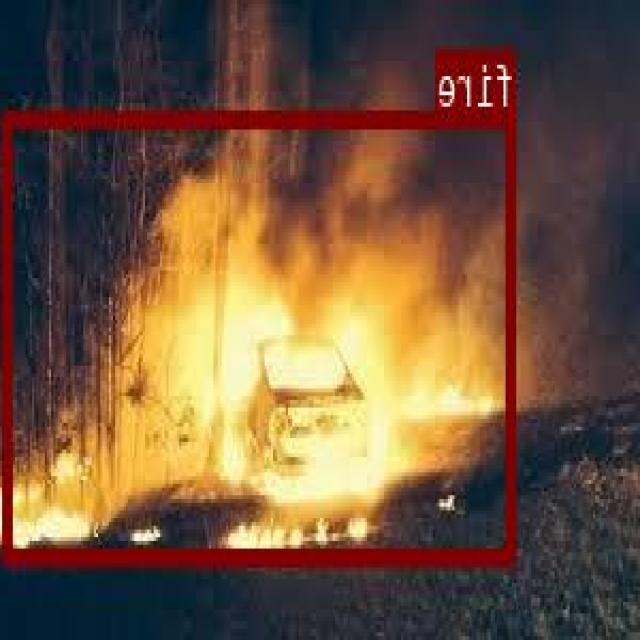fire: (6, 108, 517, 564)
